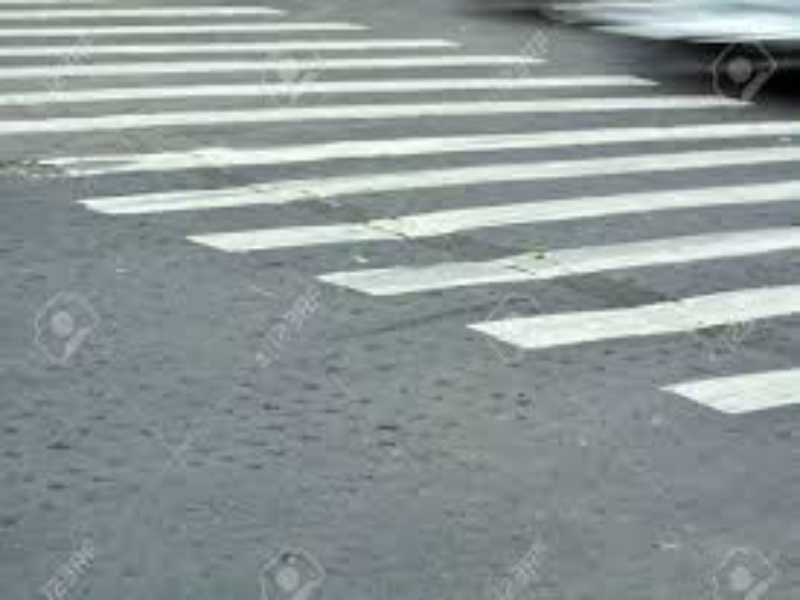zebra cross: (1, 4, 797, 417)
